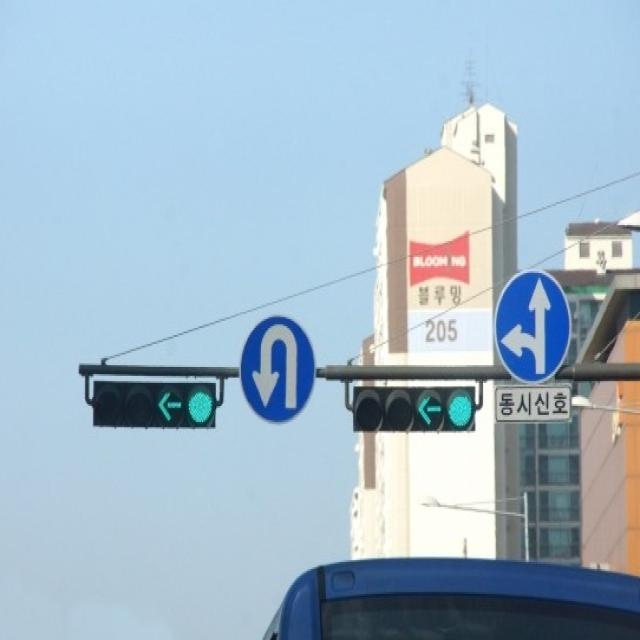Green Light: (444, 380, 478, 436), (185, 382, 214, 433)
